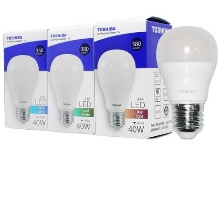carton: (87, 12, 179, 143), (41, 19, 114, 139), (1, 25, 68, 137)
light_bulb: (155, 23, 222, 142)
